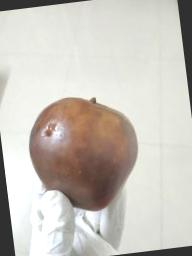Apple Rotten: (16, 82, 146, 220)
